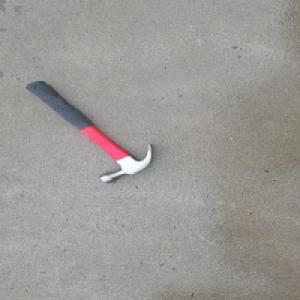Hammer: (25, 80, 156, 184)
